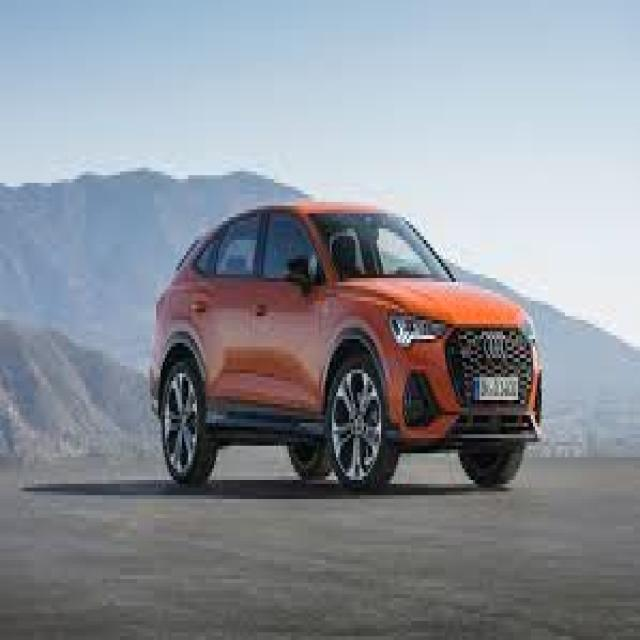SUV: (146, 194, 544, 492)
